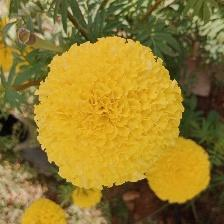marigold: (33, 35, 187, 193)
